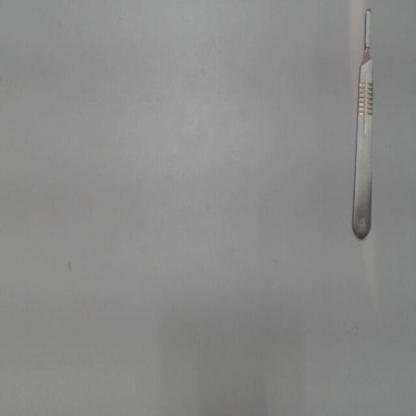No.4 BP Handle: (348, 7, 381, 246)
